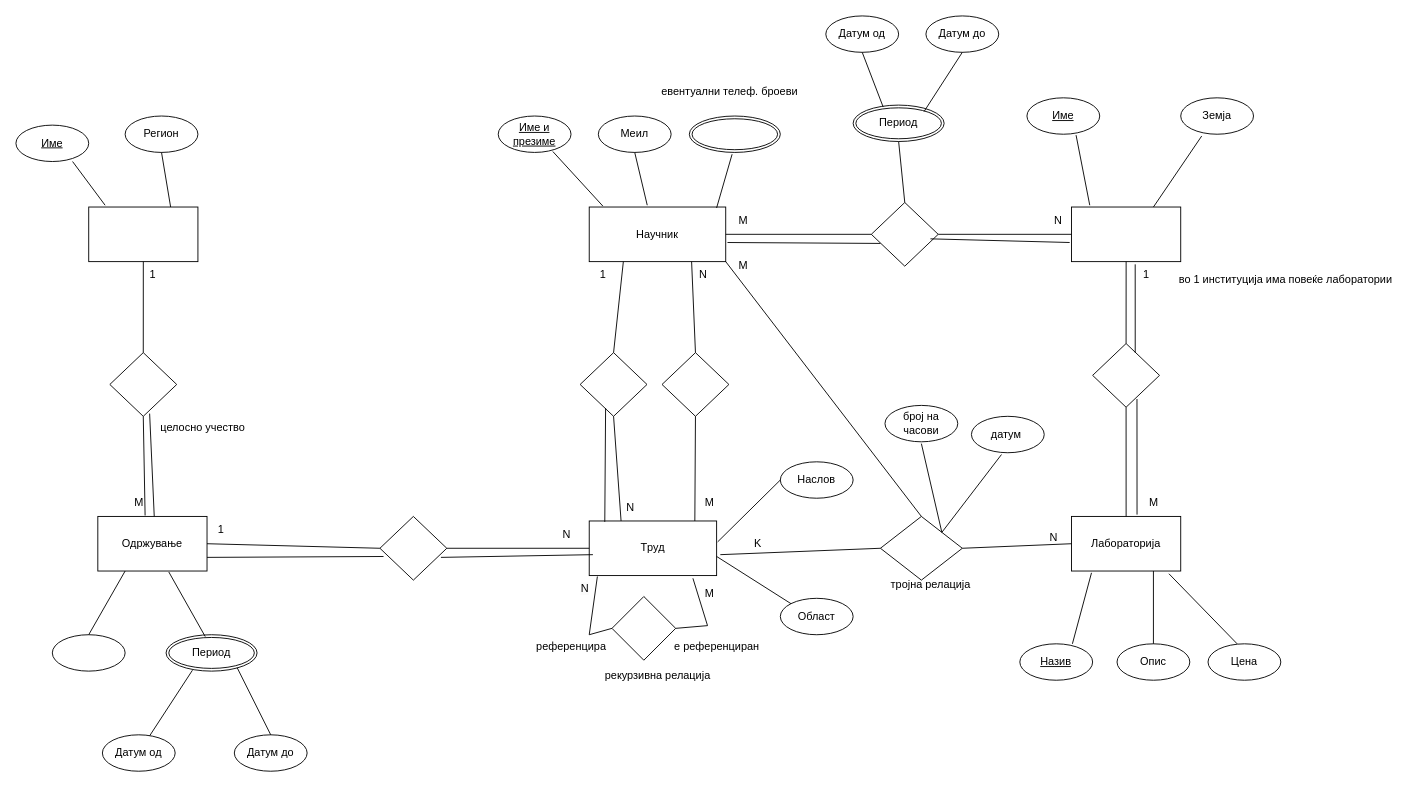
Some shapes in this 1420 by 787 pixel diagram are drawn without their labels. Here are the shapes that lost their labels. From the top down, the centre of each, then its label:
At (x=734, y=133): "Телефонски броеви".
At (x=143, y=234): "Конференција".
At (x=904, y=234): "работи во".
At (x=1126, y=234): "Институција".
At (x=143, y=384): "одржува".
At (x=613, y=384): "прв автор".
At (x=695, y=384): "коавтори".
At (x=1126, y=375): "Има".
At (x=413, y=548): "објавени".
At (x=921, y=548): "тестирање".
At (x=88, y=652): "Број на одржување".
